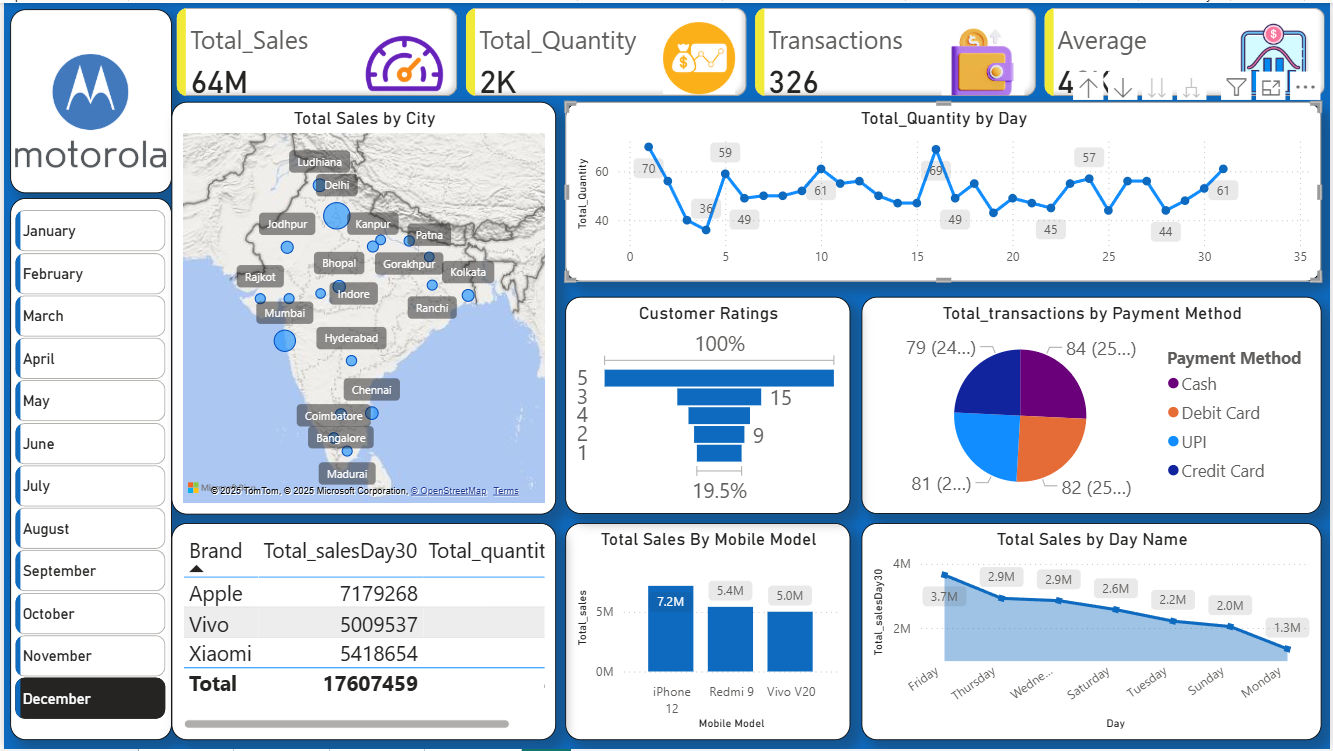

This screenshot's page, from the dashboard's own definition file:
{"tool":"powerbi","page":{"name":"Page 4","canvas":[1280,720],"ordinal":3},"visuals":[{"type":"shape","box":[6,6,155.6,177.3],"z":0},{"type":"image","box":[6,15.7,155.6,177.3],"z":1000},{"type":"shape","box":[6,188.2,155.6,523.6],"z":2000},{"type":"advancedSlicerVisual","fields":{"Values":["Sheet1.Date.Variation.Date Hierarchy.Month"]},"box":[6,174.9,155.6,545.3],"z":3000},{"type":"cardVisual","fields":{"Data":["Sheet1.Total_salesDay30","Sheet1.Total_quantity01","Sheet1.Total_transactions","Sheet1.Average"]},"box":[161.7,0,1118.4,95.3],"z":4000},{"type":"map","fields":{"Category":["Sheet1.City"],"Size":["Sheet1.Total_salesDay30"]},"box":[161.7,95.3,371.6,398.1],"z":5000},{"type":"lineChart","fields":{"Category":["Sheet1.Date.Variation.Date Hierarchy.Month","Sheet1.Date.Variation.Date Hierarchy.Day"],"Y":["Sheet1.Total_quantity01"]},"box":[541.7,95.3,729.9,173.7],"z":6000},{"type":"clusteredColumnChart","title":"Total Sales By Mobile Model","fields":{"Category":["Sheet1.Mobile Model"],"Y":["Sheet1.Total_salesDay30"]},"box":[541.7,501.9,275.1,209.9],"z":7000},{"type":"pieChart","fields":{"Category":["Sheet1.Payment Method"],"Y":["Sheet1.Total_transactions"]},"box":[827.6,283.5,444,209.9],"z":8000},{"type":"funnel","title":"Customer Ratings","fields":{"Category":["Sheet1.Customer Ratings"],"Y":["CountNonNull(Sheet1.Customer Ratings)"]},"box":[541.7,283.5,275.1,209.9],"z":9000},{"type":"areaChart","title":"Total Sales by Day Name","fields":{"Category":["Sheet1.Day"],"Y":["Sheet1.Total_salesDay30"]},"box":[827.6,501.9,444,209.9],"z":10000},{"type":"tableEx","fields":{"Values":["Sheet1.Brand","Sheet1.Total_salesDay30","Sheet1.Total_quantity01"]},"box":[161.7,501.9,371.6,209.9],"z":11000}]}

Visuals, with their boxes in screenshot pixels (x1, y1, x2, y2):
shape: crop(6, 6, 166, 188)
image: crop(6, 16, 166, 198)
shape: crop(6, 193, 166, 731)
advancedSlicerVisual - Sheet1.Date.Variation.Date Hierarchy.Month: crop(6, 180, 166, 740)
cardVisual - Sheet1.Total_salesDay30 x Sheet1.Total_quantity01: crop(166, 0, 1315, 98)
map - Sheet1.City x Sheet1.Total_salesDay30: crop(166, 98, 548, 507)
lineChart - Sheet1.Date.Variation.Date Hierarchy.Month x Sheet1.Date.Variation.Date Hierarchy.Day: crop(556, 98, 1306, 276)
"Total Sales By Mobile Model" clusteredColumnChart: crop(556, 515, 839, 731)
pieChart - Sheet1.Payment Method x Sheet1.Total_transactions: crop(850, 291, 1306, 507)
"Customer Ratings" funnel: crop(556, 291, 839, 507)
"Total Sales by Day Name" areaChart: crop(850, 515, 1306, 731)
tableEx - Sheet1.Brand x Sheet1.Total_salesDay30: crop(166, 515, 548, 731)
